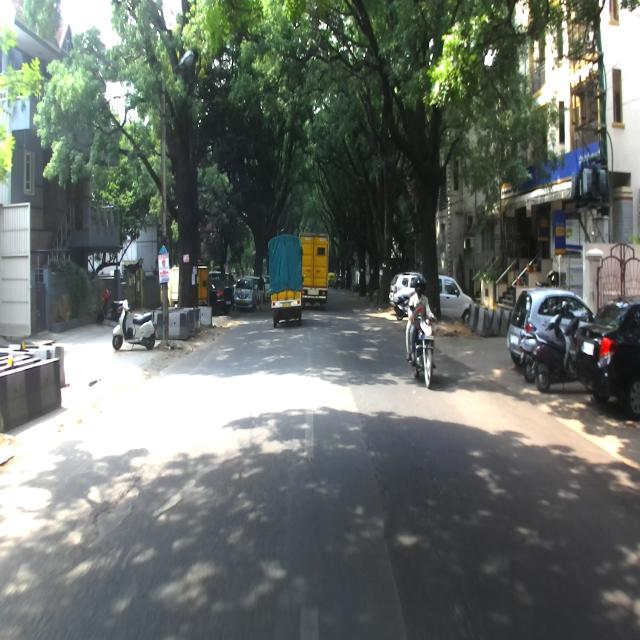motorcycle ahead at: (110, 295, 159, 364)
truck ahead at: (266, 236, 306, 328), (306, 226, 333, 312)
